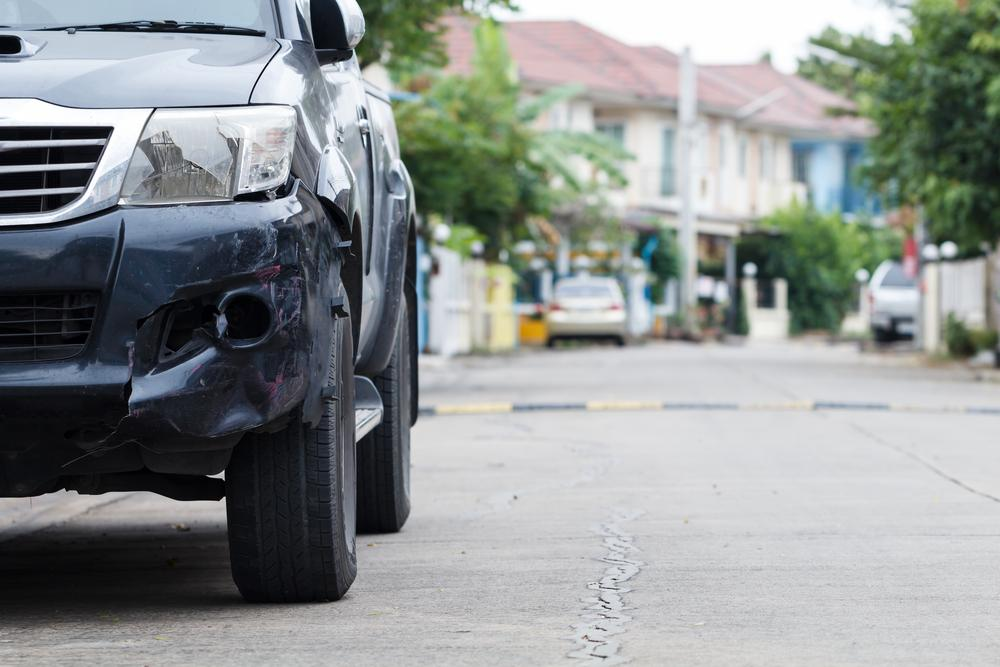crack: (70, 300, 175, 449)
dent: (184, 353, 269, 433)
lamp broken: (116, 105, 298, 208)
scratch: (230, 217, 309, 347)
